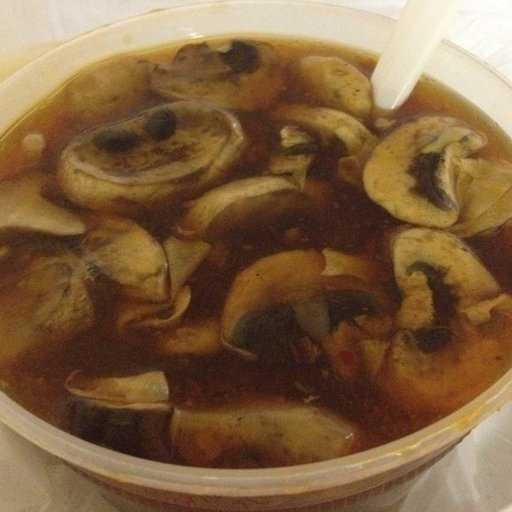soup: (4, 42, 479, 469)
